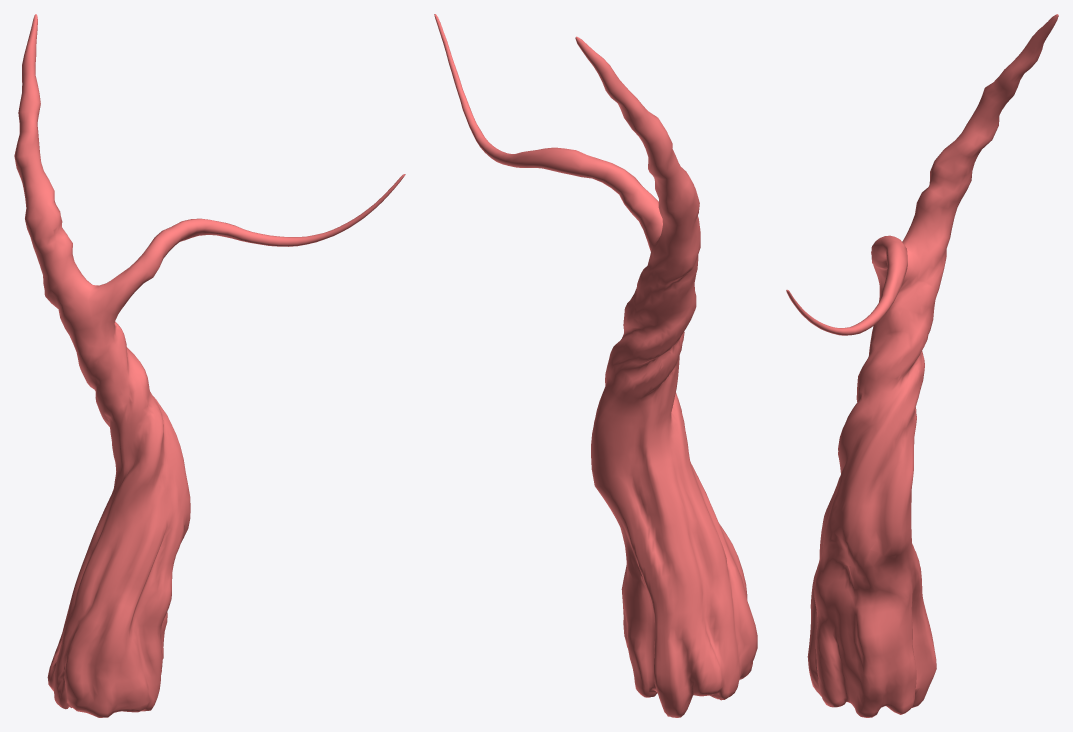
Rendered from branch01.fbx.
The picture shows the model from 3 angles, left to right: view 1: azimuth 30°, elevation 25°; view 2: azimuth 150°, elevation 25°; view 3: azimuth 270°, elevation 25°; orthographic projection. The views are drawn at different scales.
Visible parts, largest first — view 1: branch02; view 2: branch02; view 3: branch02.
Part boxes in pixels (x1,y1,x2,y2): branch02: (14,14,405,717); branch02: (434,14,757,717); branch02: (786,14,1058,717).
Size of the model in its own units: 0.3123 by 0.6166 by 0.2162.
